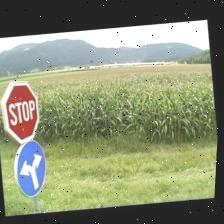Stop: (0, 77, 46, 146)
